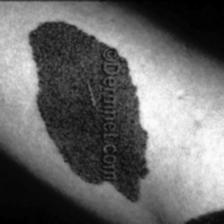Potentially Malignant Skin Tumors: (27, 23, 94, 170), (121, 56, 163, 204)
